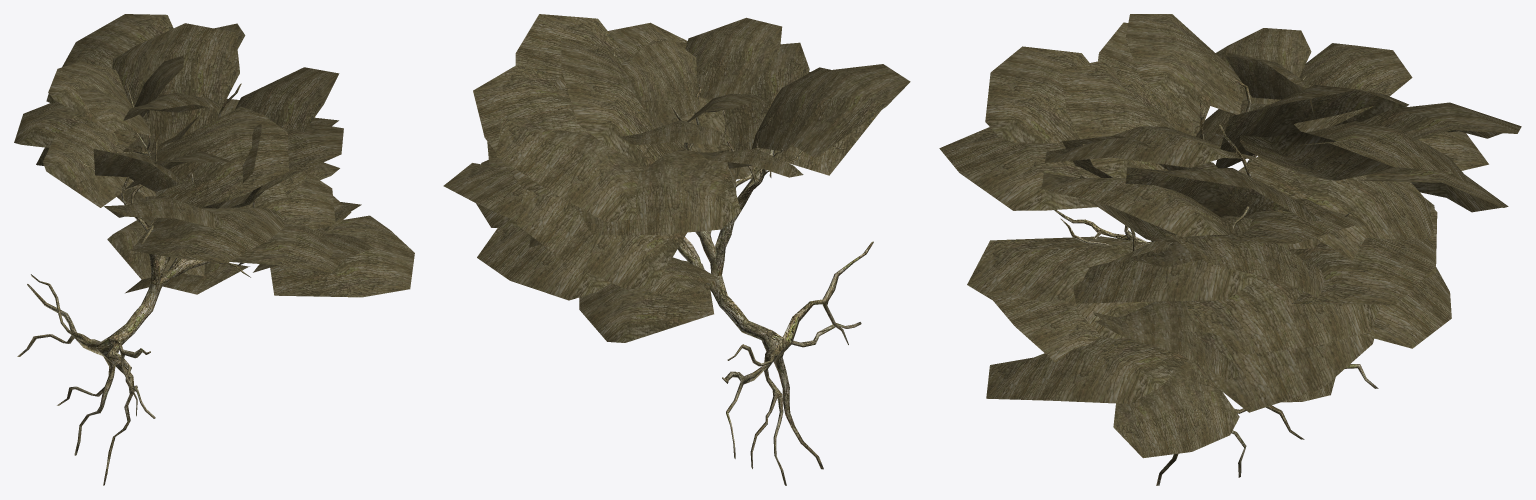
Rendered from Model_Tree_11.fbx.
The picture shows the model from 3 angles, left to right: view 1: azimuth 30°, elevation 25°; view 2: azimuth 150°, elevation 25°; view 3: azimuth 270°, elevation 25°; orthographic projection. The views are drawn at different scales.
Parts seen in each view (by area): view 1: Tree_10; view 2: Tree_10; view 3: Tree_10.
Boxes of the visible parts, left/top/right/bottom form: Tree_10: left=14, top=14, right=414, bottom=485; Tree_10: left=443, top=14, right=910, bottom=485; Tree_10: left=939, top=14, right=1521, bottom=485.
Size of the model in its own units: 400 by 467 by 490.
